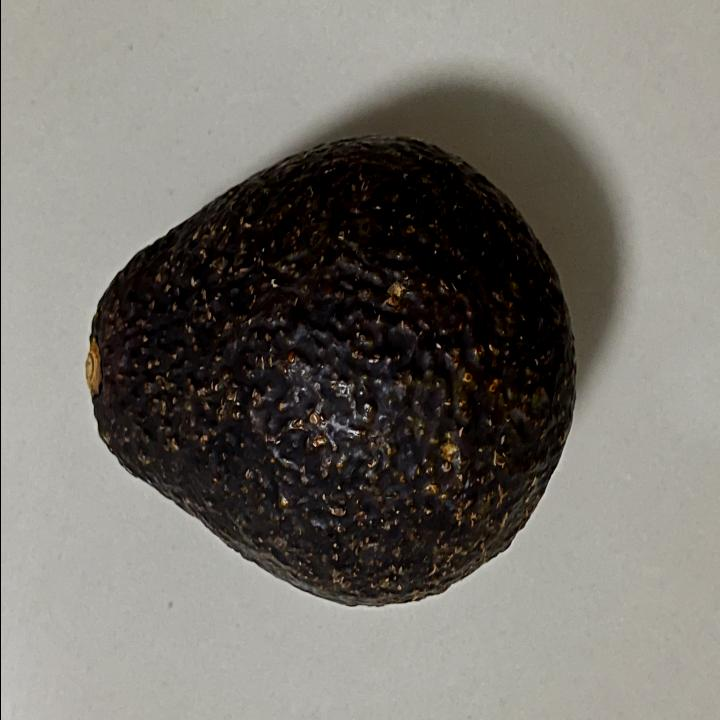Level1: (70, 127, 590, 622)
